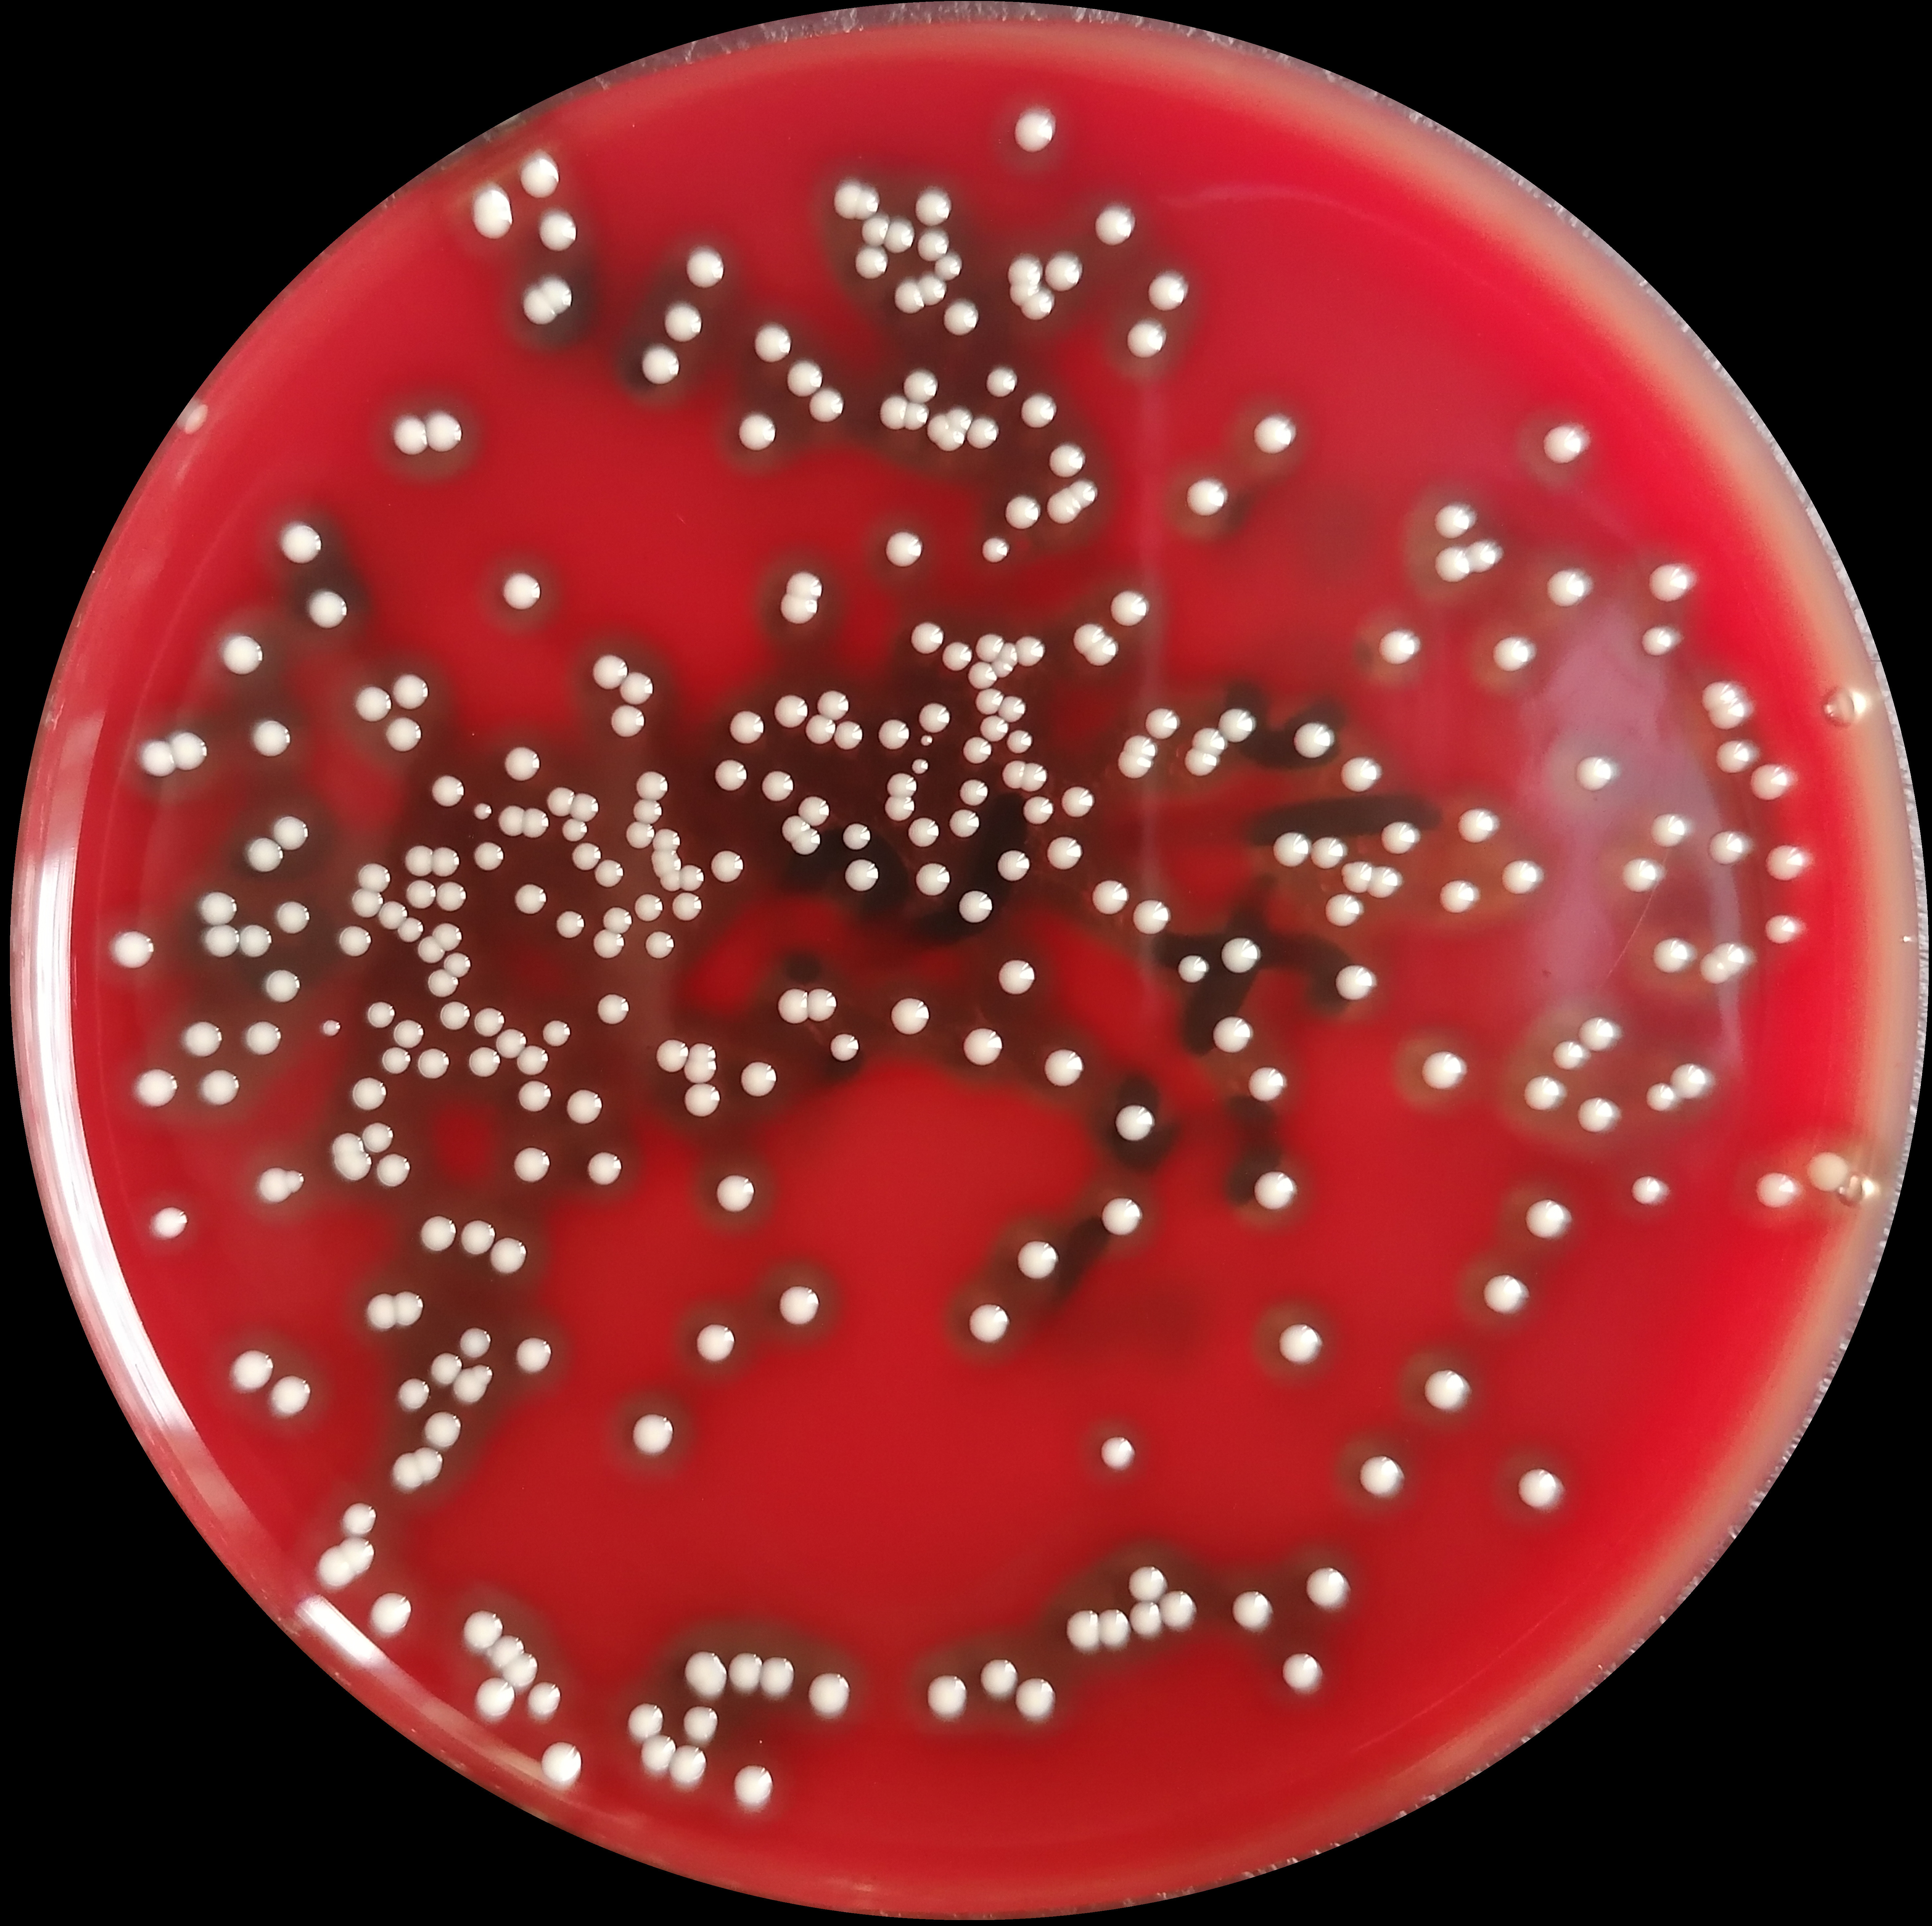sp21: (464, 183, 520, 242), (626, 1409, 682, 1464), (513, 146, 566, 199), (679, 1647, 732, 1698), (224, 1349, 277, 1399), (1357, 1453, 1408, 1503), (326, 1131, 372, 1185), (1278, 1646, 1327, 1695), (710, 1168, 760, 1217), (806, 1670, 853, 1721), (1544, 568, 1597, 614), (1421, 1367, 1474, 1413), (273, 520, 326, 566), (1416, 1049, 1470, 1094), (1040, 249, 1088, 298), (1516, 1466, 1565, 1513), (728, 1762, 776, 1811), (515, 284, 561, 335), (1273, 1323, 1326, 1367), (680, 242, 728, 289), (966, 1302, 1014, 1349), (1153, 1587, 1200, 1635), (538, 1739, 585, 1787), (1012, 106, 1059, 153), (1146, 266, 1192, 316), (1227, 1587, 1276, 1633), (268, 1370, 314, 1420), (236, 1018, 286, 1064), (1477, 1272, 1528, 1316), (638, 340, 684, 388), (1805, 1148, 1851, 1196), (509, 1333, 557, 1379), (774, 1280, 820, 1328), (176, 1016, 224, 1062), (108, 928, 155, 974), (885, 993, 934, 1037), (1248, 1171, 1299, 1213), (129, 1065, 180, 1108), (536, 208, 582, 254), (1304, 1563, 1350, 1609), (460, 1609, 506, 1654), (1645, 557, 1692, 601), (303, 587, 351, 631), (1750, 1169, 1802, 1210), (1521, 1199, 1572, 1240), (659, 298, 705, 342), (1250, 411, 1296, 455), (1185, 474, 1230, 519), (1747, 760, 1793, 804), (499, 1649, 543, 1695), (316, 1543, 360, 1589), (247, 714, 293, 758), (1495, 857, 1542, 900), (1098, 1196, 1146, 1238), (217, 633, 264, 676), (1541, 423, 1590, 464), (194, 1069, 245, 1108), (924, 1670, 968, 1714), (368, 1593, 412, 1637), (166, 728, 210, 773), (390, 411, 434, 455), (1331, 963, 1377, 1005), (1112, 1101, 1158, 1143), (1209, 1014, 1255, 1056), (1014, 1238, 1059, 1280), (1065, 1609, 1107, 1654), (758, 1654, 800, 1700), (624, 1702, 670, 1744), (450, 1363, 495, 1406), (691, 1321, 737, 1363), (421, 411, 464, 457), (1093, 205, 1141, 245), (957, 1026, 1005, 1067), (1666, 1062, 1713, 1102), (474, 1674, 515, 1721), (488, 1233, 529, 1280), (751, 321, 793, 365), (783, 355, 825, 399), (910, 183, 954, 226), (1488, 631, 1532, 674), (388, 670, 432, 713), (1014, 1677, 1058, 1720), (679, 1704, 721, 1748), (455, 1219, 497, 1263), (1571, 753, 1616, 794), (1433, 878, 1479, 919), (1426, 501, 1474, 540), (562, 1085, 605, 1127), (977, 1656, 1019, 1698), (197, 887, 240, 929), (501, 568, 543, 610), (536, 270, 576, 314), (1121, 316, 1165, 356), (735, 411, 779, 452), (1646, 810, 1690, 850), (1338, 753, 1382, 794), (1218, 937, 1262, 977), (994, 958, 1038, 998), (735, 1058, 779, 1099), (1521, 1074, 1565, 1115), (726, 1649, 767, 1693), (668, 1743, 709, 1787), (337, 1533, 377, 1577), (268, 813, 312, 854), (1267, 831, 1313, 870), (941, 295, 982, 337), (1431, 545, 1472, 587), (1461, 536, 1504, 577), (1294, 720, 1336, 760), (913, 859, 955, 900), (883, 529, 925, 570), (1109, 587, 1151, 628), (383, 714, 425, 755), (511, 1145, 554, 1185), (259, 967, 301, 1007), (1042, 1048, 1084, 1088), (421, 1407, 462, 1450), (199, 922, 240, 965), (806, 381, 844, 425), (878, 213, 917, 258), (605, 702, 649, 741), (349, 684, 393, 723), (585, 1146, 624, 1191), (1576, 1014, 1620, 1053), (1123, 1564, 1169, 1601), (1095, 1607, 1132, 1653), (1705, 829, 1745, 870), (1130, 896, 1170, 937), (589, 651, 629, 691), (524, 1679, 564, 1720), (148, 1201, 189, 1242), (243, 834, 284, 875), (1712, 737, 1754, 776), (1320, 889, 1363, 928), (1246, 1064, 1289, 1102), (1576, 1094, 1618, 1132), (338, 1501, 381, 1540), (1761, 841, 1805, 878), (1215, 707, 1259, 744), (1126, 1598, 1163, 1642), (1696, 677, 1743, 711), (1019, 393, 1059, 432), (1364, 864, 1405, 903), (501, 744, 541, 783), (427, 771, 467, 810), (372, 1152, 411, 1192), (134, 737, 175, 776), (1001, 252, 1044, 289), (1044, 443, 1086, 480), (726, 709, 769, 746), (774, 984, 811, 1026), (1627, 1173, 1669, 1210), (390, 1288, 427, 1330), (1001, 494, 1040, 533), (1456, 806, 1495, 845), (1089, 877, 1128, 915), (770, 693, 809, 732), (273, 900, 312, 938), (393, 1376, 432, 1415), (418, 1213, 457, 1252), (874, 392, 911, 432), (1652, 937, 1692, 974), (1377, 818, 1417, 855), (1045, 834, 1086, 871), (843, 857, 883, 894), (640, 1732, 677, 1773), (483, 1631, 524, 1668), (897, 367, 940, 402), (409, 1443, 444, 1485), (363, 1293, 398, 1335), (962, 414, 1001, 452), (1639, 623, 1676, 661), (910, 619, 947, 658), (511, 880, 550, 917), (594, 991, 633, 1028), (425, 1351, 464, 1388), (1377, 630, 1417, 665), (1710, 942, 1750, 977), (954, 891, 994, 926), (813, 688, 853, 723), (710, 758, 751, 794), (349, 1074, 390, 1109), (1096, 1436, 1137, 1471), (256, 1166, 291, 1206), (1706, 698, 1750, 730), (915, 226, 952, 263), (1622, 857, 1659, 894), (1308, 834, 1345, 871), (707, 848, 744, 885), (414, 1042, 451, 1079), (1761, 912, 1800, 947), (1142, 705, 1181, 741), (758, 769, 797, 804), (631, 767, 670, 803), (617, 670, 656, 705), (684, 1081, 723, 1116), (1548, 1037, 1586, 1072), (1015, 286, 1056, 319), (994, 850, 1035, 884), (356, 1122, 397, 1155), (388, 1450, 421, 1490), (777, 593, 820, 624), (853, 243, 890, 279), (1340, 857, 1375, 894), (1174, 952, 1211, 988), (516, 1079, 554, 1115), (652, 1037, 689, 1072), (236, 924, 273, 959), (915, 270, 948, 309), (1068, 621, 1107, 654), (1179, 748, 1220, 780), (783, 571, 823, 603), (830, 182, 860, 224), (1044, 487, 1079, 522), (1059, 785, 1095, 820), (349, 885, 384, 921), (827, 1028, 862, 1064), (947, 806, 984, 840), (1014, 633, 1047, 670), (1086, 637, 1123, 670), (437, 998, 471, 1035), (538, 1016, 575, 1049), (390, 1016, 427, 1049), (1643, 1081, 1680, 1115), (904, 817, 943, 848), (1121, 730, 1162, 760), (1698, 952, 1731, 988), (800, 713, 836, 746), (670, 891, 705, 924), (591, 855, 624, 891), (568, 838, 603, 871), (402, 878, 437, 912), (338, 924, 374, 958), (472, 1005, 506, 1041), (858, 210, 890, 247), (938, 640, 975, 672), (795, 795, 832, 827), (591, 926, 628, 958), (469, 841, 506, 873), (390, 914, 427, 945), (465, 1046, 502, 1078), (455, 1326, 492, 1358), (1188, 727, 1227, 757), (1116, 750, 1155, 780), (984, 365, 1017, 399), (918, 702, 952, 735), (973, 684, 1007, 718), (428, 919, 462, 952), (806, 988, 839, 1021), (180, 400, 213, 434), (1021, 794, 1056, 825), (839, 820, 874, 852), (555, 907, 587, 942), (492, 1026, 527, 1058), (955, 778, 992, 808), (356, 862, 393, 892), (1065, 476, 1098, 508), (878, 720, 911, 751), (832, 718, 864, 751), (631, 891, 665, 922), (495, 804, 527, 838), (404, 845, 437, 877), (435, 880, 469, 912), (1008, 279, 1044, 309), (901, 399, 931, 434), (964, 658, 999, 688), (425, 968, 460, 998), (853, 185, 881, 222), (894, 280, 925, 312), (918, 411, 950, 443), (1019, 762, 1051, 794), (973, 630, 1005, 661), (998, 758, 1028, 792), (432, 845, 462, 878), (379, 1046, 412, 1076), (959, 735, 994, 764), (880, 795, 915, 824), (522, 806, 550, 841), (682, 1056, 717, 1085), (601, 905, 633, 935), (545, 785, 575, 817), (375, 900, 407, 929), (515, 1046, 546, 1076), (978, 536, 1012, 564), (885, 771, 918, 799), (631, 797, 665, 825), (643, 931, 677, 959), (363, 1000, 397, 1028), (998, 693, 1028, 723), (624, 820, 654, 850), (649, 847, 680, 875), (569, 790, 598, 822), (414, 937, 446, 965), (441, 951, 472, 979), (978, 716, 1012, 743), (790, 829, 823, 855), (686, 1037, 719, 1064), (934, 252, 964, 280), (779, 813, 809, 841), (675, 862, 705, 891), (938, 429, 970, 455), (557, 817, 589, 843), (945, 404, 973, 432), (280, 1166, 307, 1196), (1001, 730, 1033, 753), (319, 1016, 346, 1042), (994, 640, 1021, 665), (652, 827, 680, 850), (658, 870, 680, 892), (989, 658, 1015, 677), (910, 755, 931, 778), (471, 801, 494, 822), (917, 732, 938, 751)
